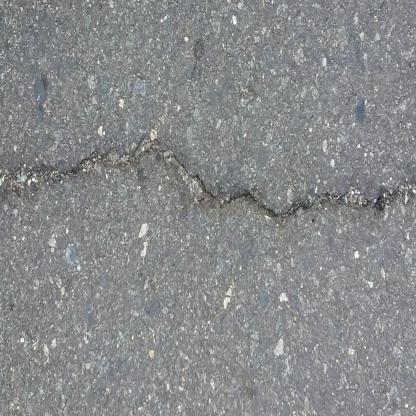Cracks: (0, 137, 416, 266)
